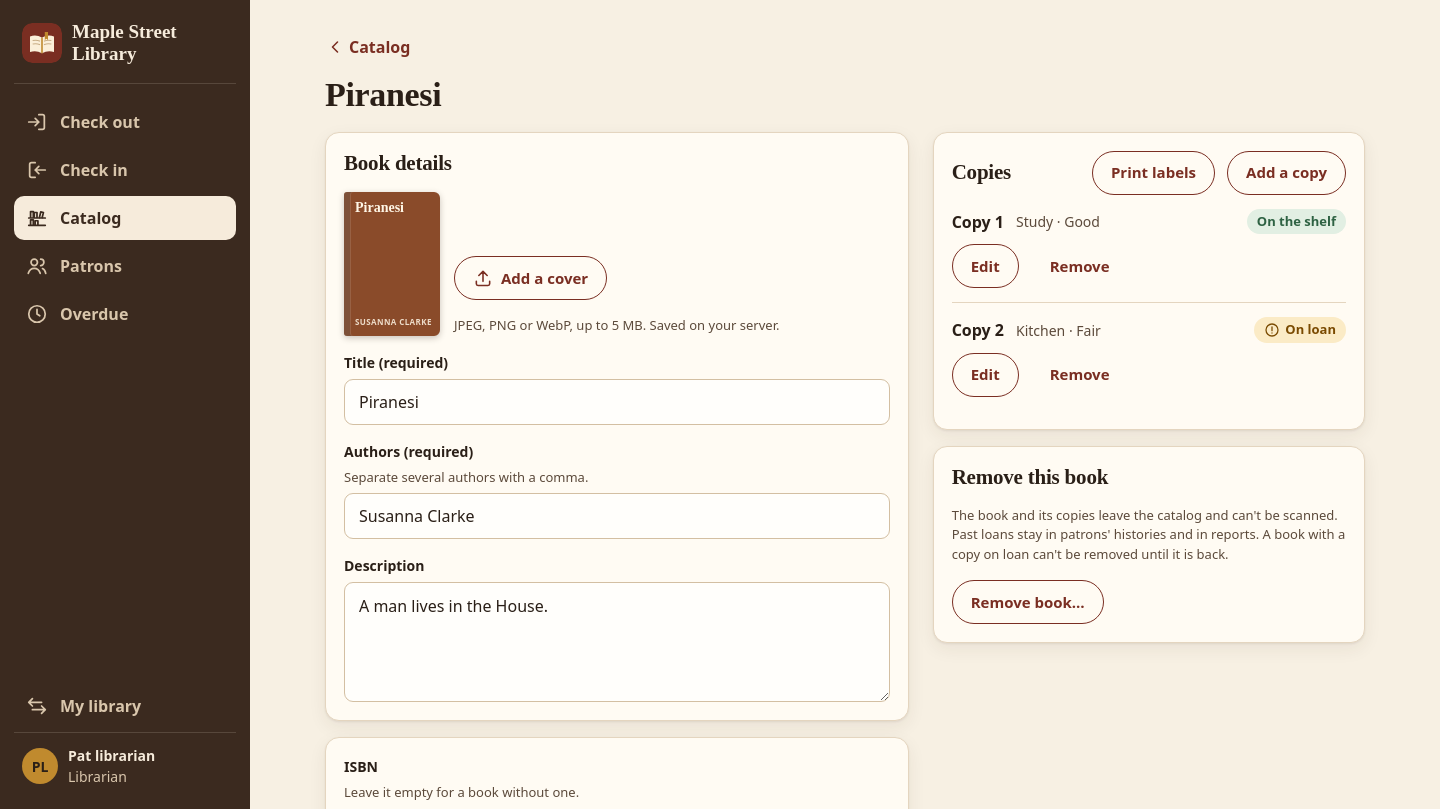
Test: CAT-5 Manage inventory: a book › an empty title is refused before anything is sent
The width and height of the screenshot is (1440, 809).
Clear the field labelled "Title (required)": {"x": 617, "y": 402} [344,379,890,425]
(page scrolled)
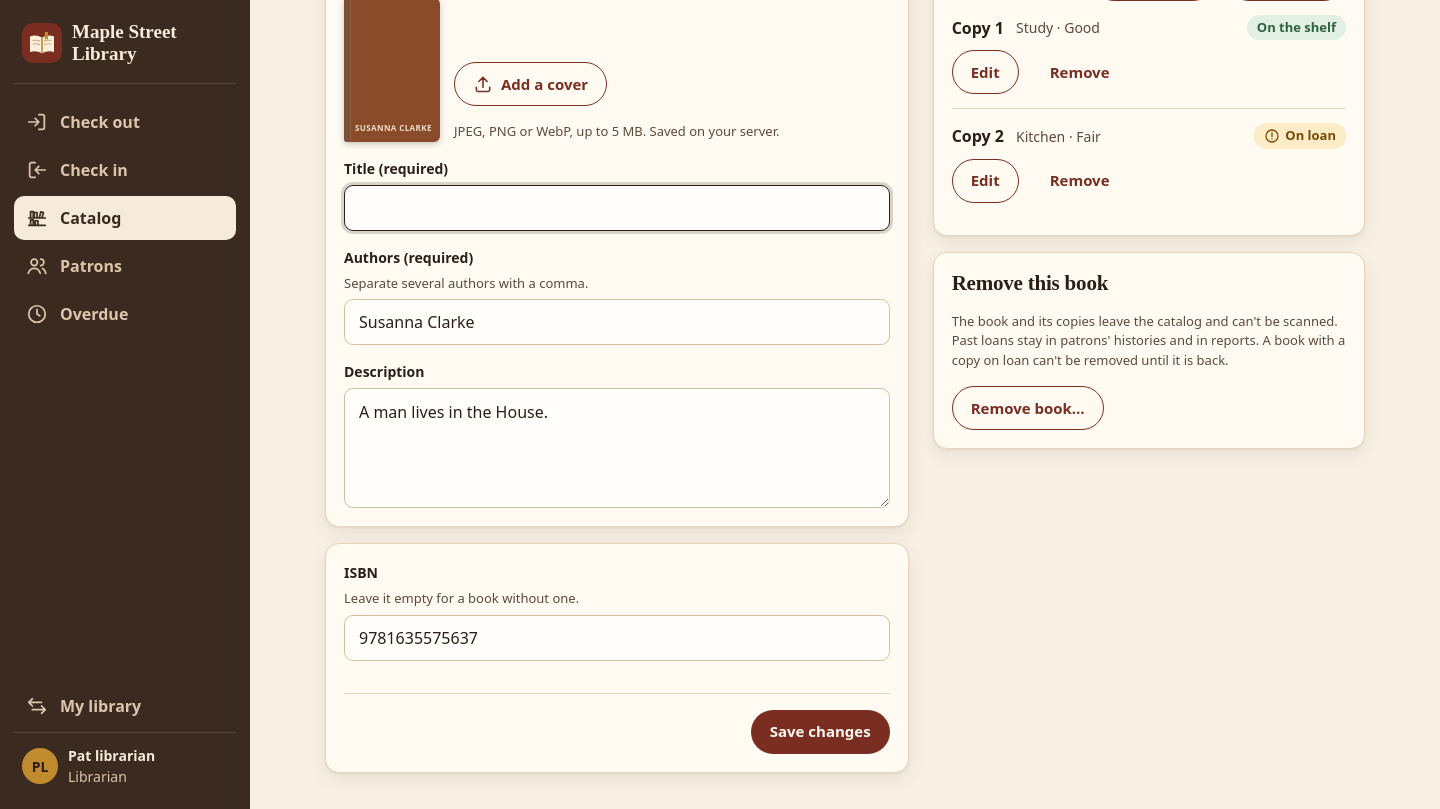
Click the button "Save changes": {"x": 820, "y": 732} [751,710,890,754]
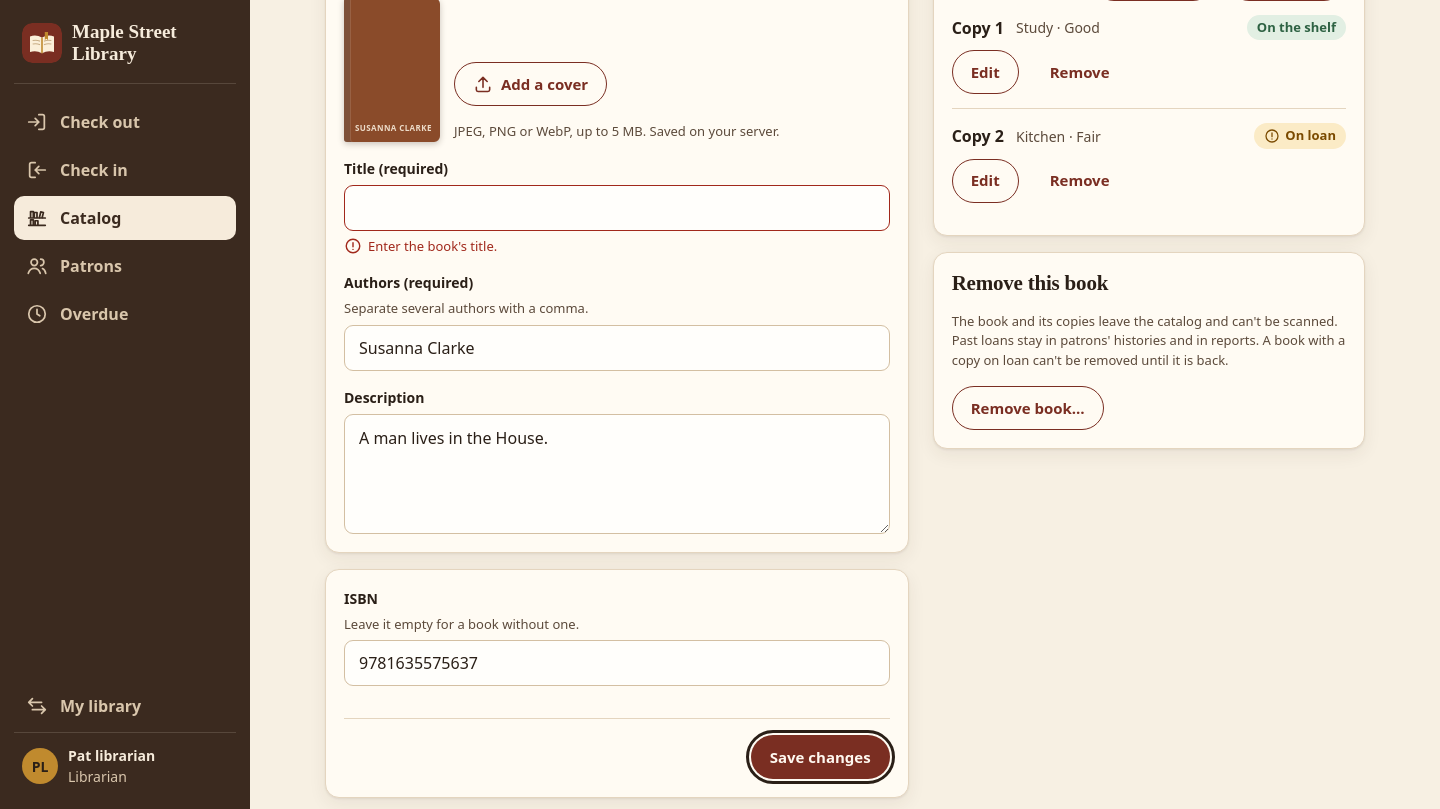
Result: the text "Enter the book's title." is shown at [344,237,497,255]
